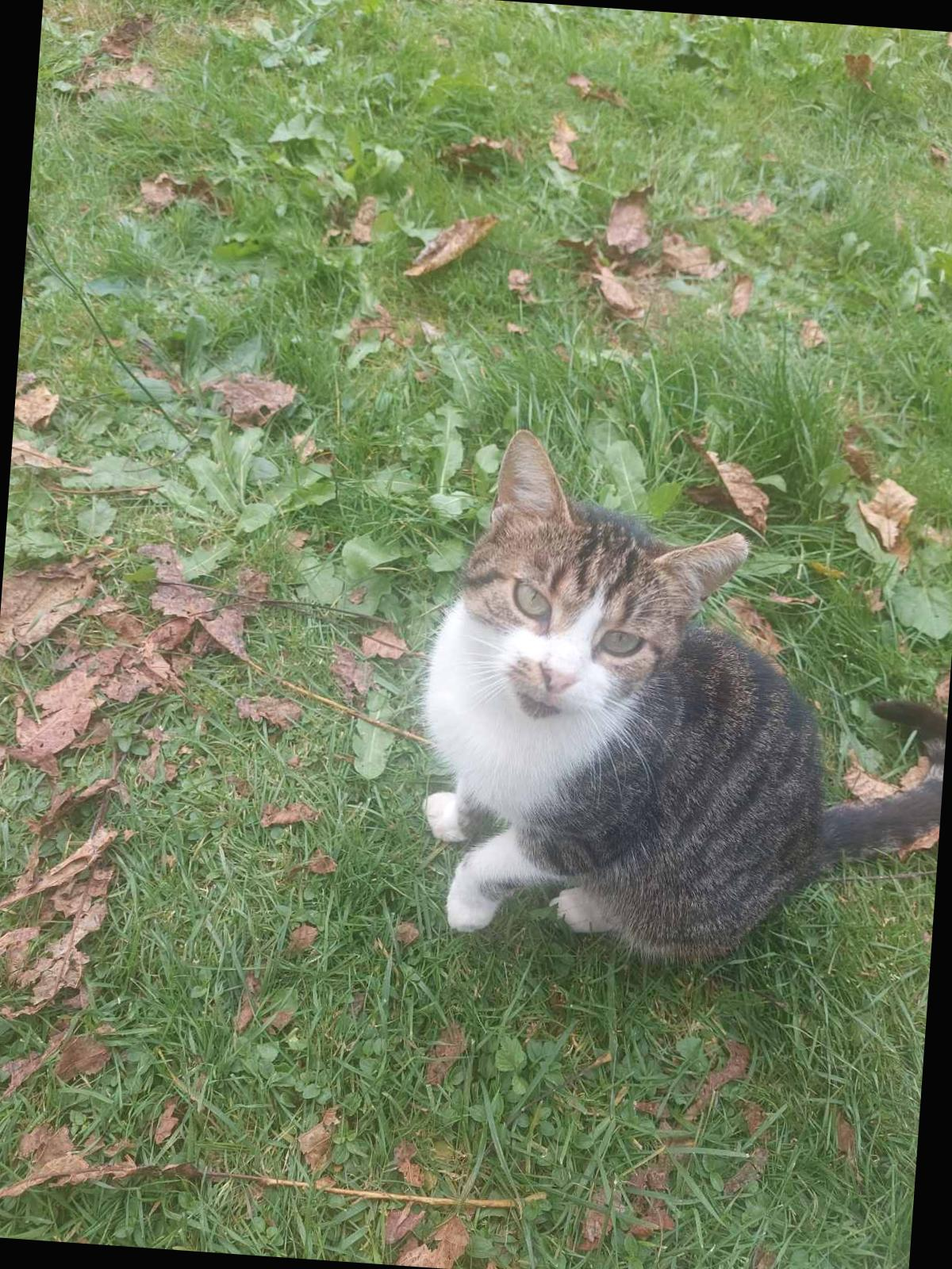macka: (406, 425, 952, 980)
